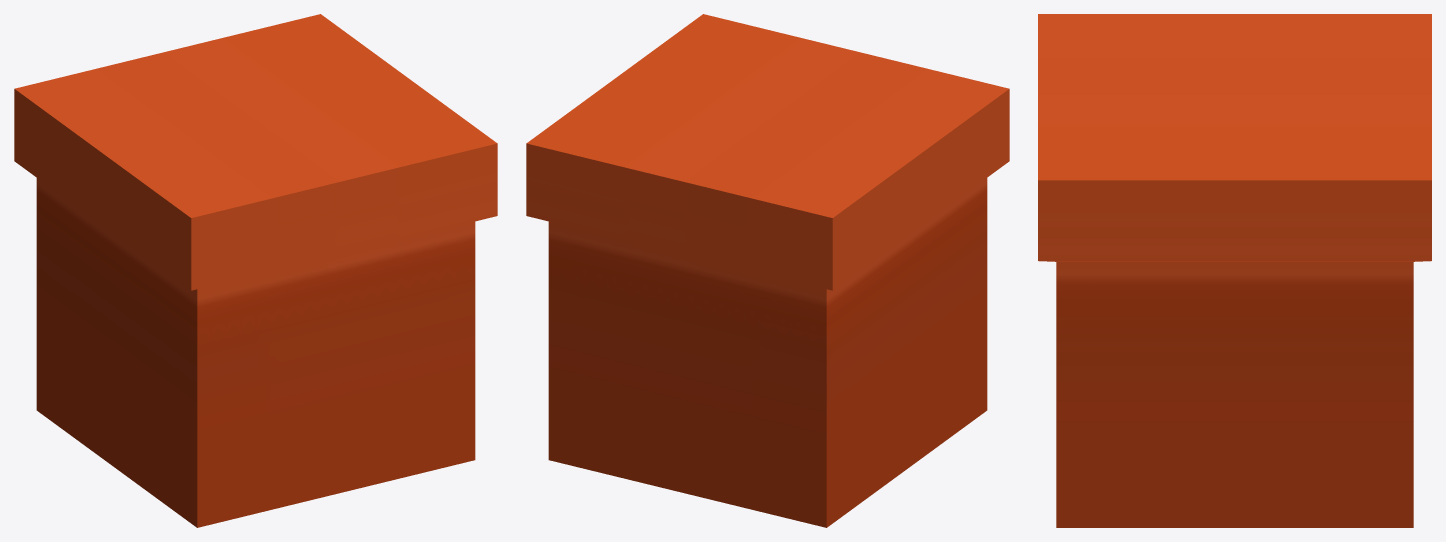
File: Asfalto_Ferro_Velho.glb
3 renders of one model, left to right at view 1: azimuth 30°, elevation 25°; view 2: azimuth 150°, elevation 25°; view 3: azimuth 270°, elevation 25°, orthographic. The views are drawn at different scales.
Visible parts, largest first — view 1: Asfalto_Ferro_Velho; view 2: Asfalto_Ferro_Velho; view 3: Asfalto_Ferro_Velho.
Boxes of the visible parts, x1=… form: Asfalto_Ferro_Velho: x1=14, y1=14, x2=497, y2=527; Asfalto_Ferro_Velho: x1=526, y1=14, x2=1009, y2=527; Asfalto_Ferro_Velho: x1=1038, y1=14, x2=1431, y2=527.
Bounding box in the file's own units: 2 × 1.99 × 2.
1 material, 1 textured.
